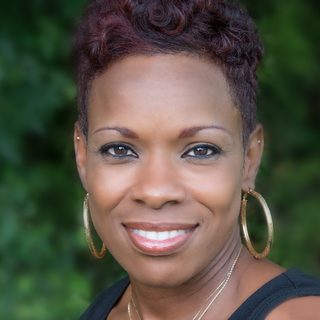eye: (95, 138, 147, 165), (176, 139, 225, 164)
